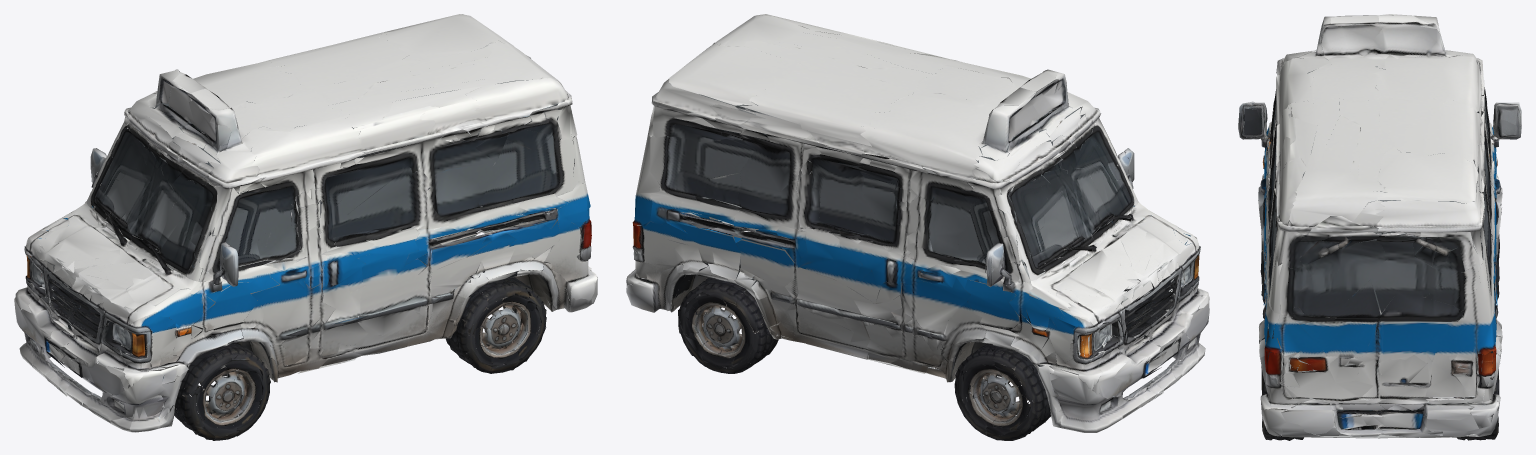
The model's file is Minibus.fbx.
3 renders of one model, left to right at view 1: azimuth 30°, elevation 25°; view 2: azimuth 150°, elevation 25°; view 3: azimuth 270°, elevation 25°, orthographic.
Visible parts, largest first — view 1: Minibus.006; view 2: Minibus.006; view 3: Minibus.006.
Boxes of the visible parts, bbox=[...] form: Minibus.006: bbox=[14, 14, 597, 440]; Minibus.006: bbox=[626, 14, 1209, 440]; Minibus.006: bbox=[1238, 14, 1521, 440].
Size of the model in its own units: 4.39 by 2.61 by 2.26.
Materials: 1 (1 with a texture image).
